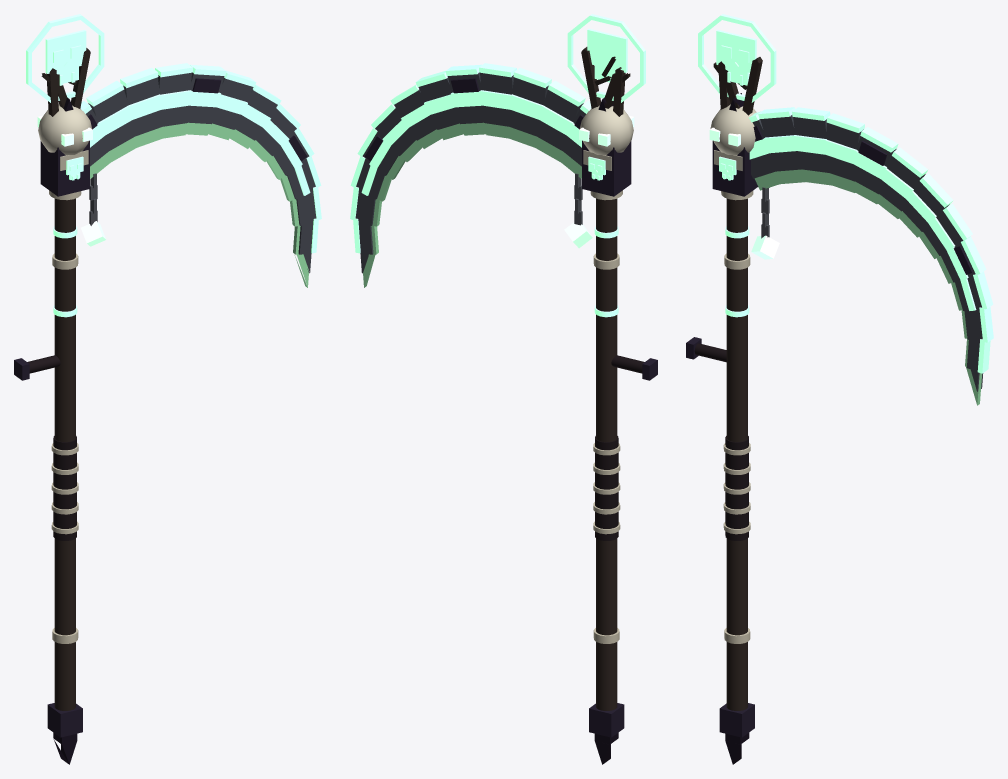
3 views of the same model, side by side, from view 1: azimuth 30°, elevation 25°; view 2: azimuth 150°, elevation 25°; view 3: azimuth 330°, elevation 25° (orthographic).
Parts seen in each view (by area): view 1: lich-harvest; view 2: lich-harvest; view 3: lich-harvest.
Part boxes in pixels (x1,y1,x2,y2): lich-harvest: (14,14,321,764); lich-harvest: (350,14,657,764); lich-harvest: (686,14,993,764).
Bounding box in the file's own units: 0.8023 × 1.89 × 0.1257.
